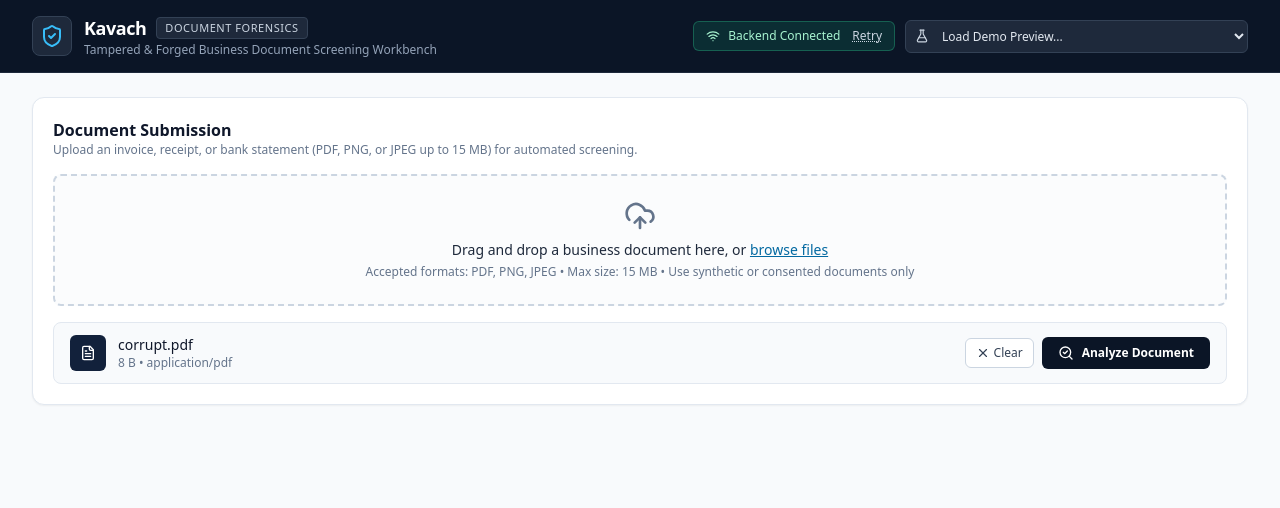
Test: Kavach Frontend End-to-End Workflows › handles failed analysis state cleanly
Earlier steps of the test are not shown.
Check: the text "Backend Connected" is shown, box [728,28,840,44]
Click the button "Analyze Document": point(1126, 353) [1042,337,1210,369]
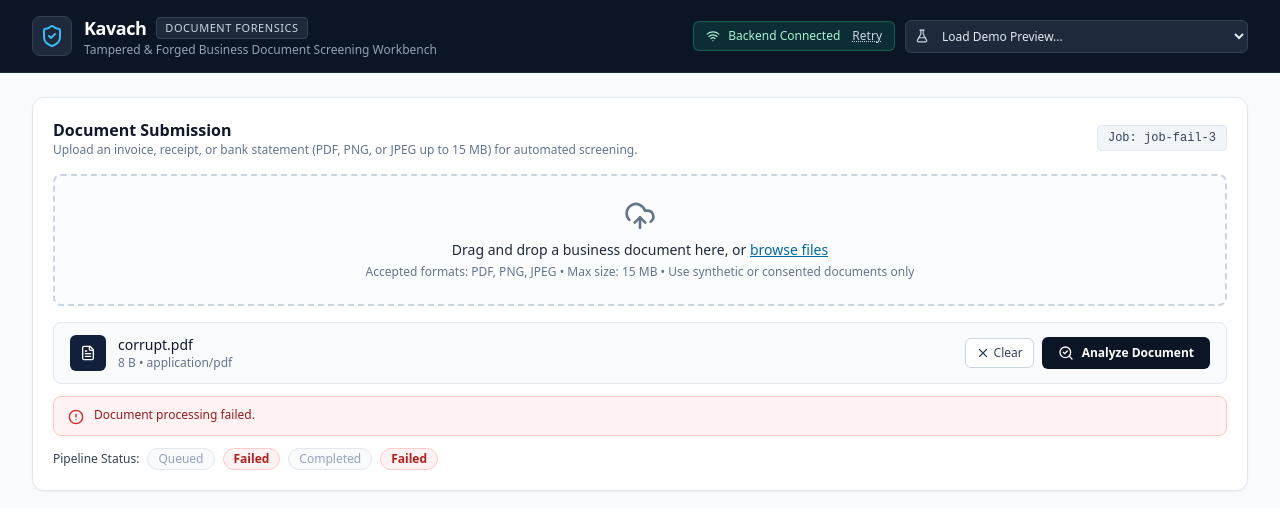
Check: the message "Document processing failed." is shown, box [53,396,1227,436]
